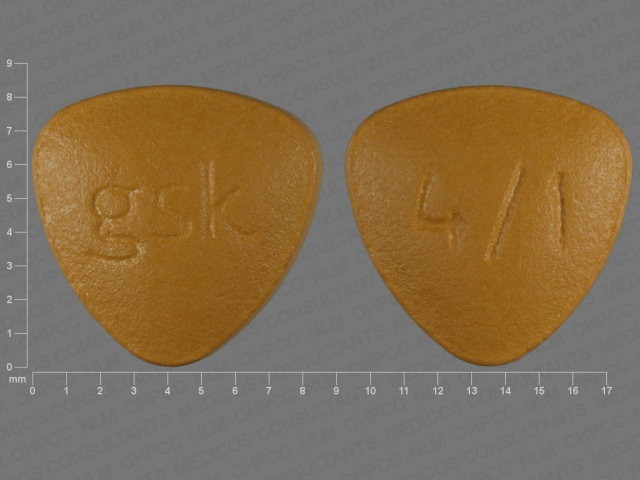4/1: (405, 155, 574, 265)
K: (204, 161, 256, 244)
S: (147, 176, 199, 244)
g: (79, 177, 146, 268)
